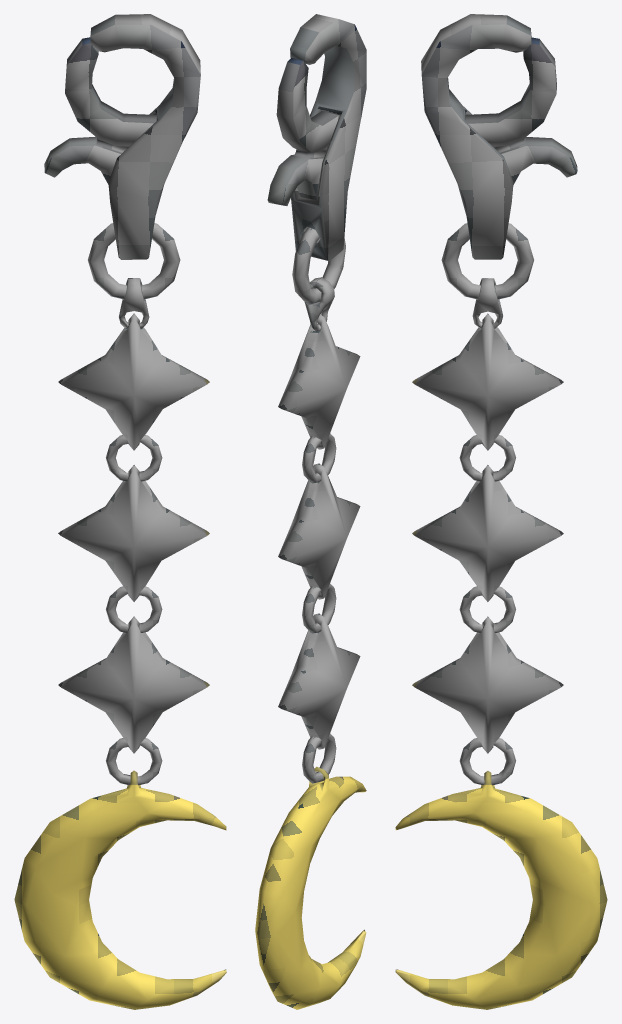
The model's file is midnightblue_keychain.obj.
The picture shows the model from 3 angles, left to right: view 1: azimuth 90°, elevation 25°; view 2: azimuth 150°, elevation 25°; view 3: azimuth 270°, elevation 25°; orthographic projection.
Parts seen in each view (by area): view 1: keychain; view 2: keychain; view 3: keychain.
Boxes of the visible parts, x1,y1,x2,y2 form: keychain: [14, 14, 226, 1009]; keychain: [255, 14, 366, 1009]; keychain: [395, 14, 607, 1009].
Size of the model in its own units: 0.0205 by 0.3443 by 0.0668.
